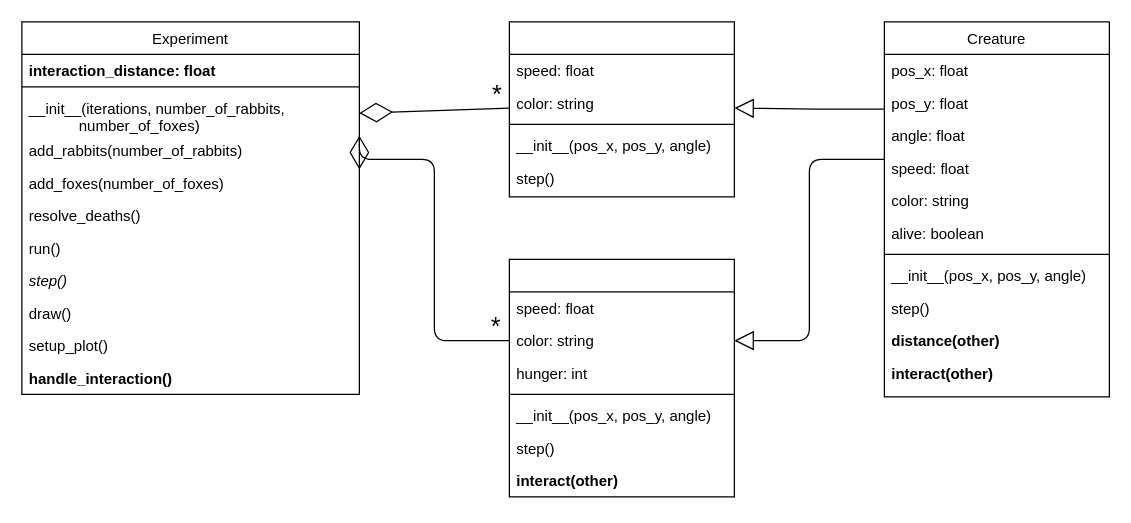
The diagram is 1131 pixels wide and 523 high, and some of its shapes have lost their labels. The box of each missing label's shape, as (x1, y1, x2, y2) in pixels:
Fox: (508, 258, 734, 497)
Rabbit: (508, 21, 734, 197)
